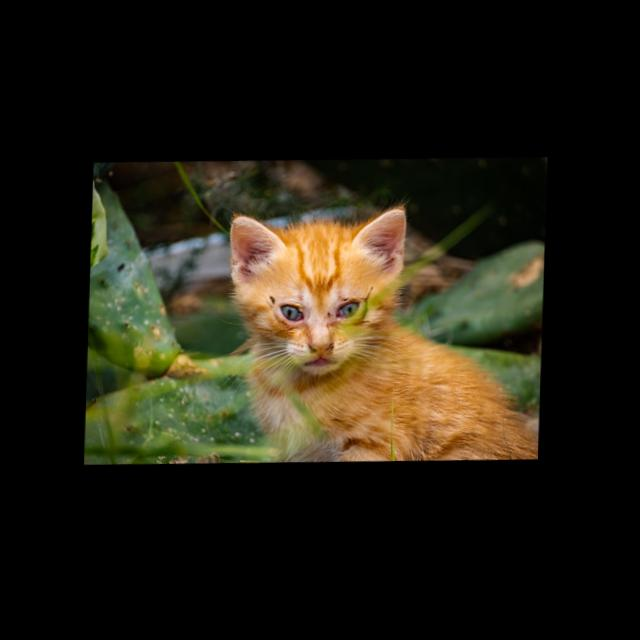animals: (224, 203, 546, 469)
